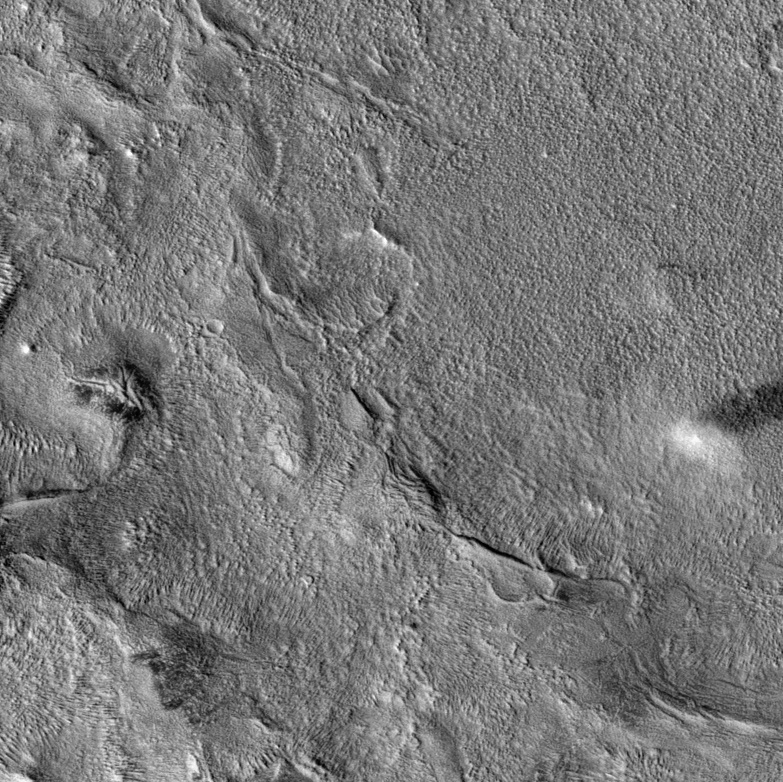dust_devil: (667, 377, 783, 481)
